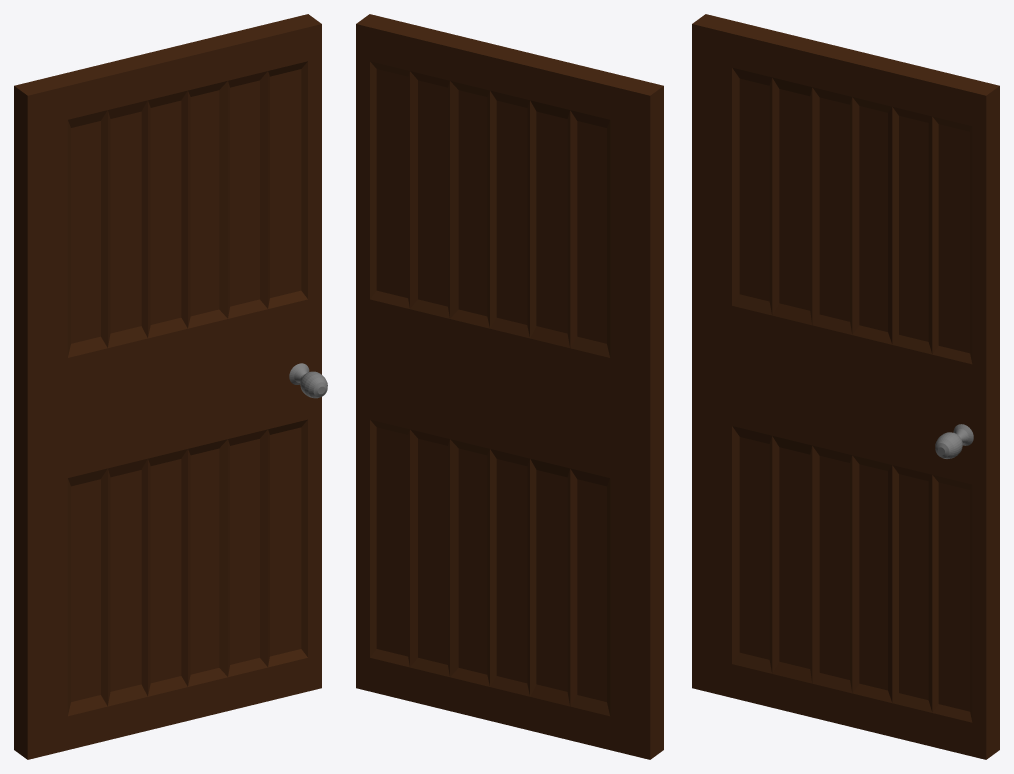
The model's file is CPI441_Fur_Door1_V2_O3blend.fbx.
3 views of the same model, side by side, from view 1: azimuth 30°, elevation 25°; view 2: azimuth 150°, elevation 25°; view 3: azimuth 330°, elevation 25° (orthographic).
Visible parts, largest first — view 1: Cube; view 2: Cube; view 3: Cube.
Part boxes in pixels (left/top/right/bottom): Cube: left=14, top=14, right=327, bottom=759; Cube: left=356, top=14, right=663, bottom=759; Cube: left=692, top=14, right=999, bottom=759.
Size of the model in its own units: 462 by 997 by 97.84.
